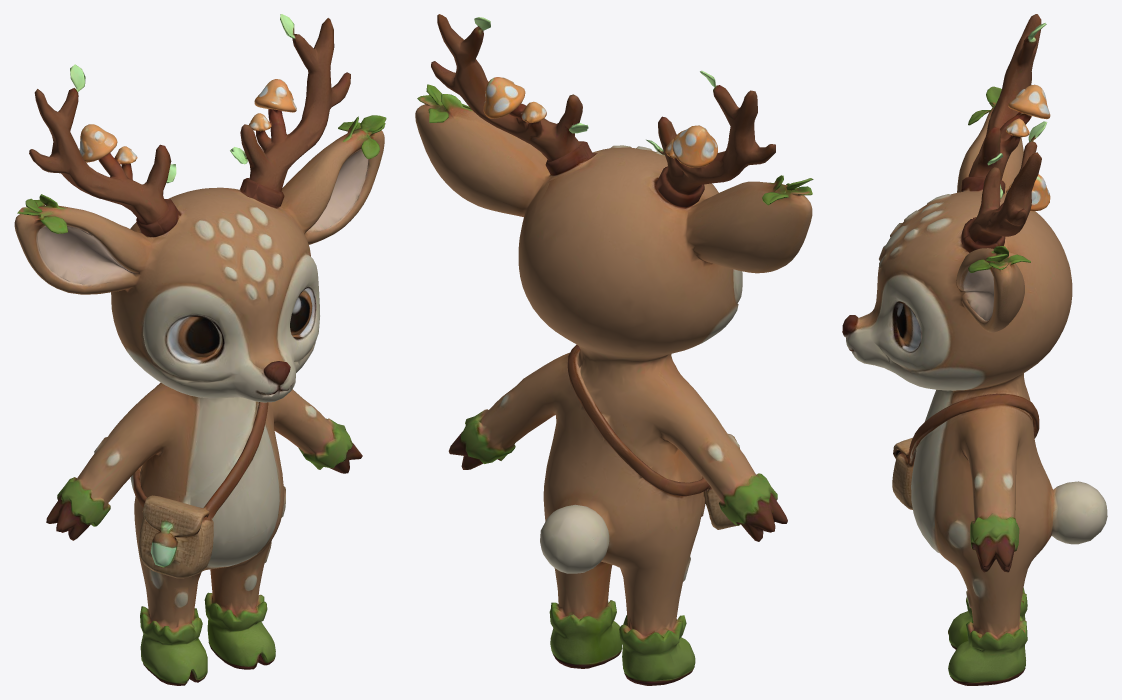
The model's file is deer.glb.
3 renders of one model, left to right at view 1: azimuth 30°, elevation 25°; view 2: azimuth 150°, elevation 25°; view 3: azimuth 270°, elevation 25°, orthographic. The views are drawn at different scales.
Visible parts, largest first — view 1: tripo_node_fb85fb1c-a5e3-4719-95a8-9d7770f98f59; view 2: tripo_node_fb85fb1c-a5e3-4719-95a8-9d7770f98f59; view 3: tripo_node_fb85fb1c-a5e3-4719-95a8-9d7770f98f59.
Part boxes in pixels (x1=…): tripo_node_fb85fb1c-a5e3-4719-95a8-9d7770f98f59: x1=14, y1=14, x2=386, y2=685; tripo_node_fb85fb1c-a5e3-4719-95a8-9d7770f98f59: x1=415, y1=14, x2=813, y2=685; tripo_node_fb85fb1c-a5e3-4719-95a8-9d7770f98f59: x1=842, y1=14, x2=1107, y2=685.
Bounding box in the file's own units: 0.6255 × 0.9793 × 0.3989.
Materials: 1 (1 with a texture image).
